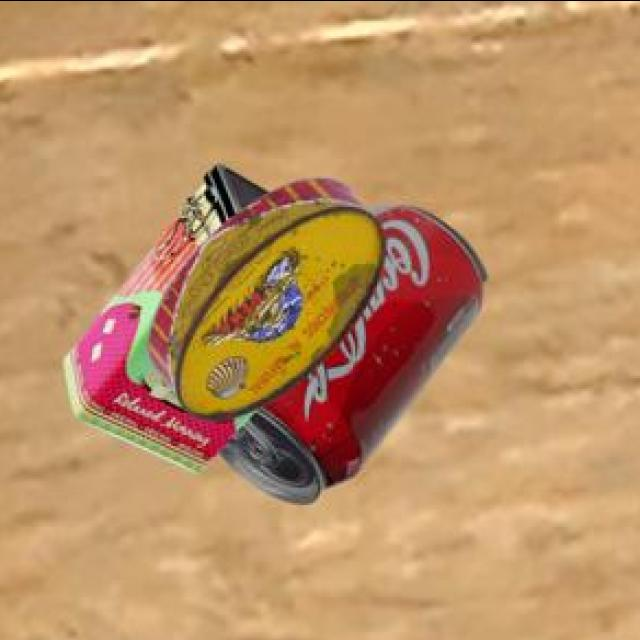logam: (222, 201, 490, 499), (67, 161, 271, 468), (152, 174, 389, 415)
